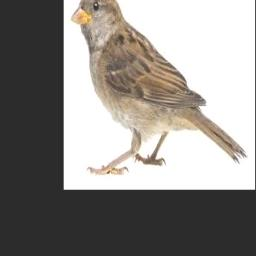Sparrow: (71, 0, 247, 175)
